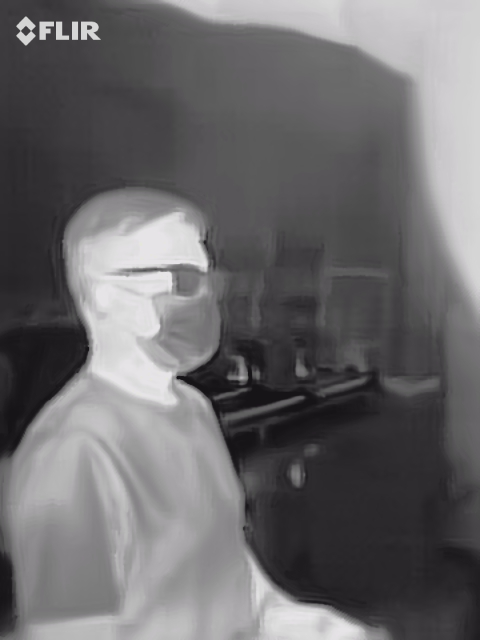head: (59, 185, 225, 377)
